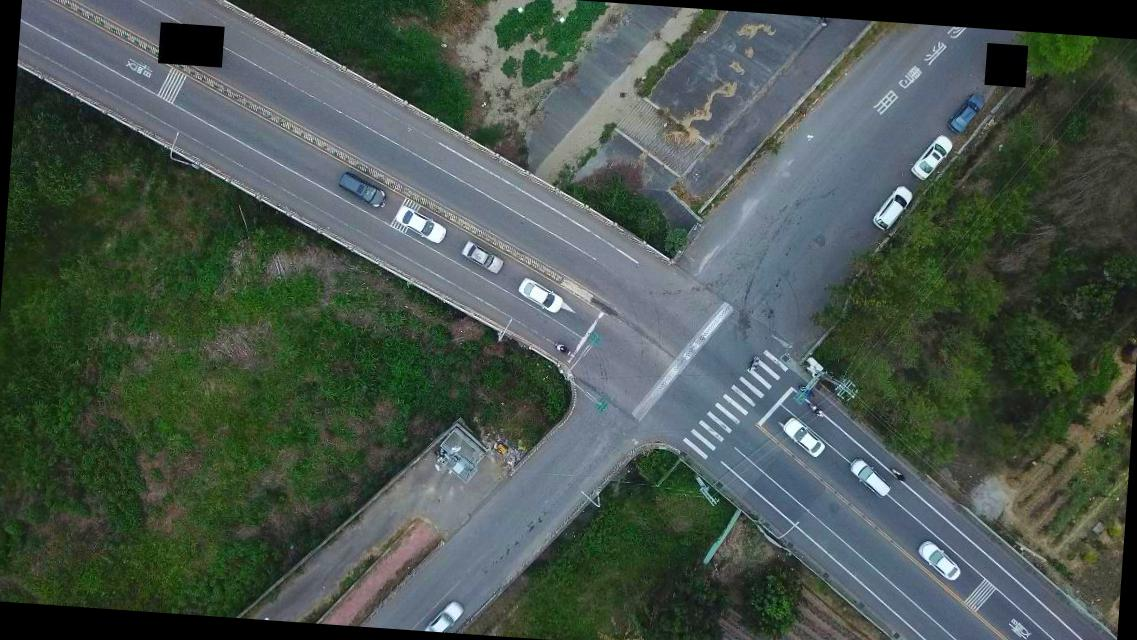vehicle: (513, 274, 568, 317), (913, 538, 964, 581), (909, 134, 954, 182), (781, 416, 830, 459), (393, 207, 446, 246), (846, 456, 894, 499), (456, 238, 507, 278), (873, 183, 914, 231), (340, 171, 388, 210), (946, 94, 982, 138), (423, 598, 464, 632)
